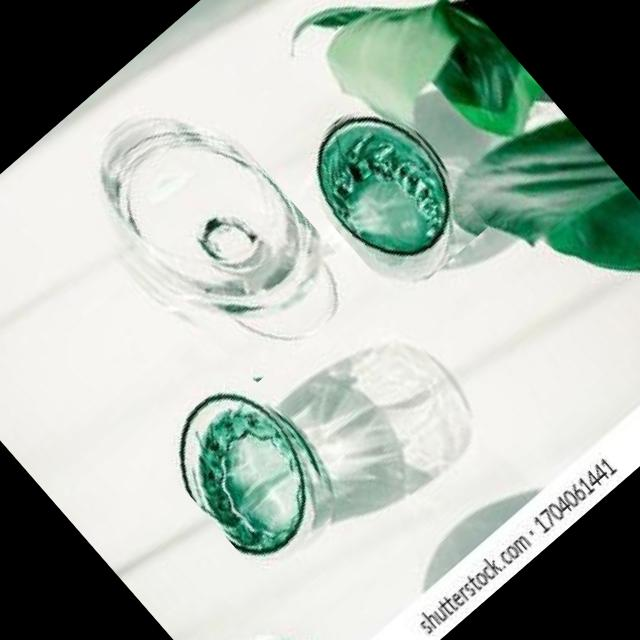Glass: (46, 70, 368, 402), (281, 82, 497, 303), (149, 364, 362, 584), (199, 595, 344, 640)
